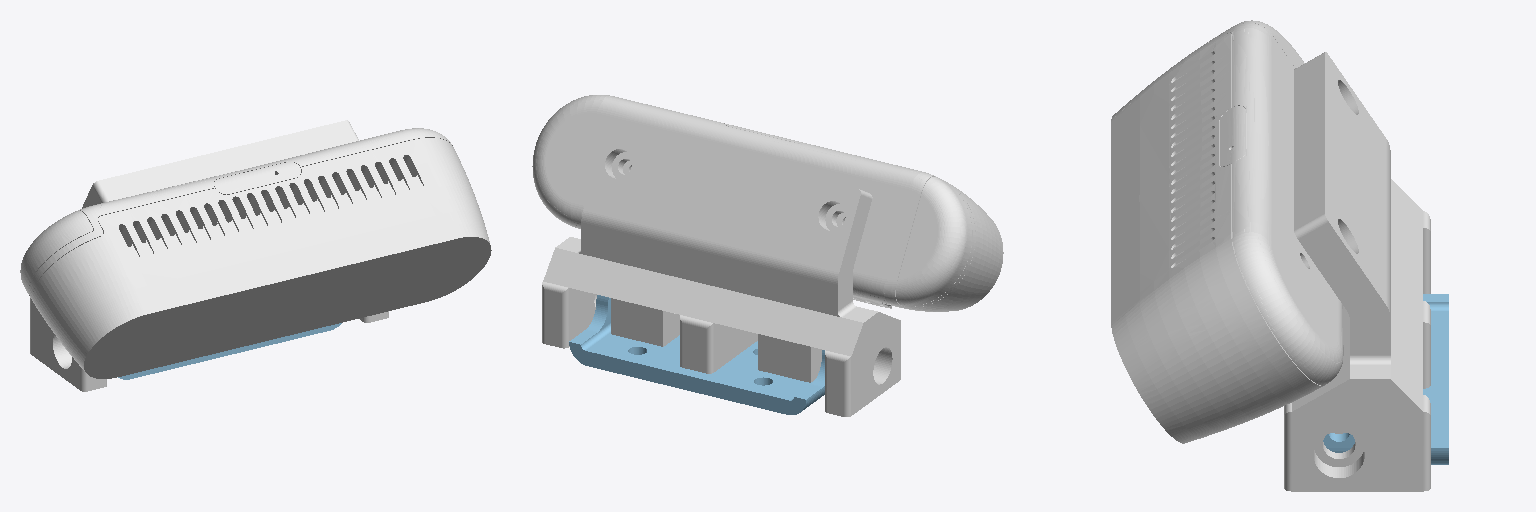
URDF robot description (camera_mount_thick):
<?xml version="1.0" ?>
<!-- Generated using onshape-to-robot -->
<!-- Onshape https://cad.onshape.com/documents/8c8c53c216a1df34f1f97b84/w/141a3b7a0708bfe1c6a4de68/e/5032eb55fc40a52e23c96aec -->
<robot name="camera_mount_thick">
  <!-- Link camera_base -->
  <link name="camera_base">
    <inertial>
      <origin xyz="0 0 0" rpy="0 0 0"/>
      <mass value="1e-09"/>
      <inertia ixx="1e-09" ixy="0" ixz="0" iyy="1e-09" iyz="0" izz="1e-09"/>
    </inertial>
    <!-- Part camera_mount_thick -->
    <visual>
      <origin xyz="-0 -0.002512 0.0335" rpy="-0 -0 -0"/>
      <geometry>
        <mesh filename="package://assets/camera_mount_thick.stl"/>
      </geometry>
      <material name="camera_mount_thick_material">
        <color rgba="0.917647 0.917647 0.917647 1"/>
      </material>
    </visual>
    <collision>
      <origin xyz="-0 -0.002512 0.0335" rpy="-0 -0 -0"/>
      <geometry>
        <mesh filename="package://assets/camera_mount_thick.stl"/>
      </geometry>
    </collision>
    <!-- Part camera_base -->
    <visual>
      <origin xyz="-0 -1.20037e-05 0" rpy="-0 0 0"/>
      <geometry>
        <mesh filename="package://assets/camera_base.stl"/>
      </geometry>
      <material name="camera_base_material">
        <color rgba="0.615686 0.811765 0.929412 1"/>
      </material>
    </visual>
    <collision>
      <origin xyz="-0 -1.20037e-05 0" rpy="-0 0 0"/>
      <geometry>
        <mesh filename="package://assets/camera_base.stl"/>
      </geometry>
    </collision>
    <!-- Part camera_d435 -->
    <visual>
      <origin xyz="-0 -0.0309136 0.0179006" rpy="2.1293 -0 -0"/>
      <geometry>
        <mesh filename="package://assets/camera_d435.stl"/>
      </geometry>
      <material name="camera_d435_material">
        <color rgba="0.917647 0.917647 0.917647 1"/>
      </material>
    </visual>
    <collision>
      <origin xyz="-0 -0.0309136 0.0179006" rpy="2.1293 -0 -0"/>
      <geometry>
        <mesh filename="package://assets/camera_d435.stl"/>
      </geometry>
    </collision>
  </link>
</robot>

--- Facts derived from the render (not from the file) ---
The picture shows the robot from 3 angles, left to right: view 1: azimuth 30°, elevation 25°; view 2: azimuth 150°, elevation 25°; view 3: azimuth 270°, elevation 25°; orthographic projection.
Model camera_mount_thick with 1 links and 0 joints (none), rooted at camera_base, posed all joints at 0.
Links seen in each view (by area): view 1: camera_base; view 2: camera_base; view 3: camera_base.
Link boxes in pixels (x1,y1,x2,y2): camera_base: [20, 120, 491, 391]; camera_base: [532, 95, 1003, 416]; camera_base: [1111, 20, 1448, 491].
Bounding box of the posed robot: 0.09 × 0.0462 × 0.0404 m (x, y, z).
Meshes: 3 distinct files referenced, 3 mesh visuals loaded (3 binary STL).
